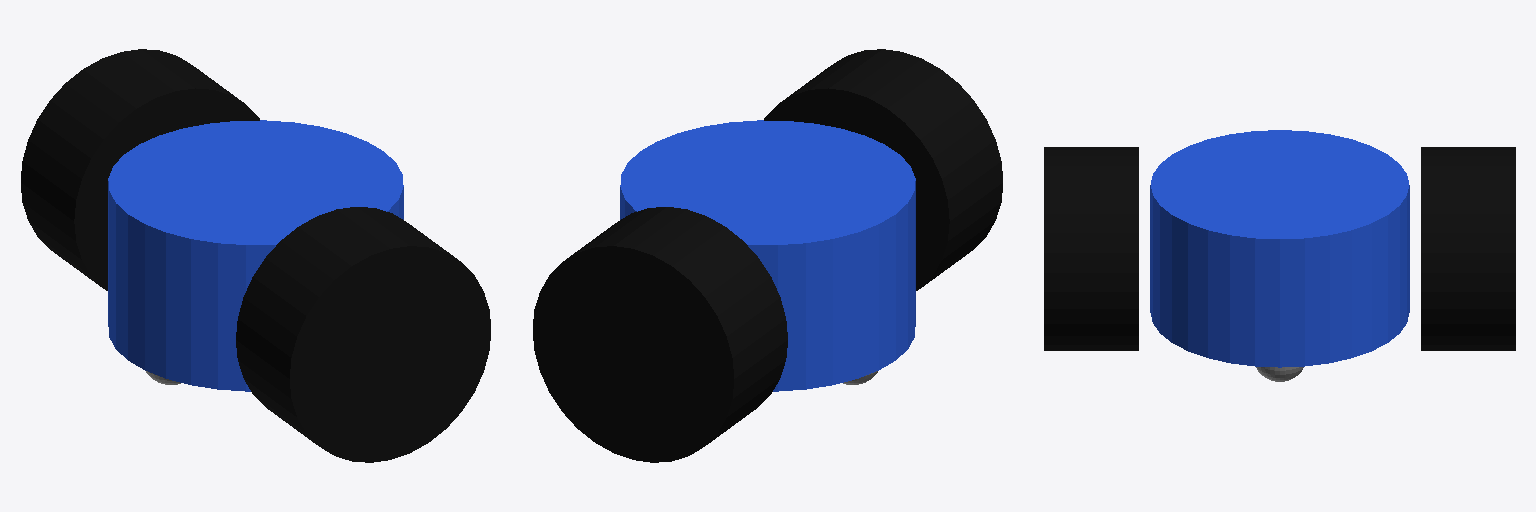
URDF robot description (burger_robot):
<?xml version="1.0"?>
<robot name="burger_robot">
  <material name="black">
    <color rgba="0.1 0.1 0.1 1.0"/>
  </material>
  <material name="gray">
    <color rgba="0.6 0.6 0.6 1.0"/>
  </material>
  <material name="blue">
    <color rgba="0.2 0.4 0.9 1.0"/>
  </material>

  <!-- Ground reference frame -->
  <link name="base_footprint"/>

  <!-- Main circular chassis (burger form factor) -->
  <link name="base_link">
    <inertial>
      <origin xyz="0 0 0" rpy="0 0 0"/>
      <mass value="2.0"/>
      <inertia ixx="0.01" ixy="0.0" ixz="0.0" iyy="0.01" iyz="0.0" izz="0.01"/>
    </inertial>
    <visual>
      <origin xyz="0 0 0" rpy="0 0 0"/>
      <geometry>
        <cylinder radius="0.0825" length="0.09"/>
      </geometry>
      <material name="blue"/>
    </visual>
    <collision>
      <origin xyz="0 0 0" rpy="0 0 0"/>
      <geometry>
        <cylinder radius="0.0825" length="0.09"/>
      </geometry>
    </collision>
  </link>

  <joint name="base_footprint_to_base_link" type="fixed">
    <parent link="base_footprint"/>
    <child link="base_link"/>
    <origin xyz="0 0 0.065" rpy="0 0 0"/>
  </joint>

  <!-- Left drive wheel: diameter 0.13 m -->
  <link name="left_wheel_link">
    <inertial>
      <origin xyz="0 0 0" rpy="0 0 0"/>
      <mass value="0.25"/>
      <inertia ixx="0.0006" ixy="0.0" ixz="0.0" iyy="0.0006" iyz="0.0" izz="0.0006"/>
    </inertial>
    <visual>
      <origin xyz="0 0 0" rpy="1.57079632679 0 0"/>
      <geometry>
        <cylinder radius="0.065" length="0.06"/>
      </geometry>
      <material name="black"/>
    </visual>
    <collision>
      <origin xyz="0 0 0" rpy="1.57079632679 0 0"/>
      <geometry>
        <cylinder radius="0.065" length="0.06"/>
      </geometry>
    </collision>
  </link>

  <joint name="left_wheel_joint" type="continuous">
    <parent link="base_link"/>
    <child link="left_wheel_link"/>
    <origin xyz="0 0.12 0" rpy="0 0 0"/>
    <axis xyz="0 1 0"/>
  </joint>

  <!-- Right drive wheel: diameter 0.13 m -->
  <link name="right_wheel_link">
    <inertial>
      <origin xyz="0 0 0" rpy="0 0 0"/>
      <mass value="0.25"/>
      <inertia ixx="0.0006" ixy="0.0" ixz="0.0" iyy="0.0006" iyz="0.0" izz="0.0006"/>
    </inertial>
    <visual>
      <origin xyz="0 0 0" rpy="1.57079632679 0 0"/>
      <geometry>
        <cylinder radius="0.065" length="0.06"/>
      </geometry>
      <material name="black"/>
    </visual>
    <collision>
      <origin xyz="0 0 0" rpy="1.57079632679 0 0"/>
      <geometry>
        <cylinder radius="0.065" length="0.06"/>
      </geometry>
    </collision>
  </link>

  <joint name="right_wheel_joint" type="continuous">
    <parent link="base_link"/>
    <child link="right_wheel_link"/>
    <origin xyz="0 -0.12 0" rpy="0 0 0"/>
    <axis xyz="0 1 0"/>
  </joint>

  <!-- Front caster wheel: diameter ~0.035 m -->
  <link name="front_caster_link">
    <inertial>
      <origin xyz="0 0 0" rpy="0 0 0"/>
      <mass value="0.05"/>
      <inertia ixx="0.00002" ixy="0.0" ixz="0.0" iyy="0.00002" iyz="0.0" izz="0.00002"/>
    </inertial>
    <visual>
      <origin xyz="0 0 0" rpy="0 0 0"/>
      <geometry>
        <sphere radius="0.0175"/>
      </geometry>
      <material name="gray"/>
    </visual>
    <collision>
      <origin xyz="0 0 0" rpy="0 0 0"/>
      <geometry>
        <sphere radius="0.0175"/>
      </geometry>
    </collision>
  </link>

  <joint name="front_caster_joint" type="fixed">
    <parent link="base_link"/>
    <child link="front_caster_link"/>
    <origin xyz="0.0575 0 -0.0475" rpy="0 0 0"/>
  </joint>

  <!-- Rear caster wheel: diameter ~0.035 m -->
  <link name="rear_caster_link">
    <inertial>
      <origin xyz="0 0 0" rpy="0 0 0"/>
      <mass value="0.05"/>
      <inertia ixx="0.00002" ixy="0.0" ixz="0.0" iyy="0.00002" iyz="0.0" izz="0.00002"/>
    </inertial>
    <visual>
      <origin xyz="0 0 0" rpy="0 0 0"/>
      <geometry>
        <sphere radius="0.0175"/>
      </geometry>
      <material name="gray"/>
    </visual>
    <collision>
      <origin xyz="0 0 0" rpy="0 0 0"/>
      <geometry>
        <sphere radius="0.0175"/>
      </geometry>
    </collision>
  </link>

  <joint name="rear_caster_joint" type="fixed">
    <parent link="base_link"/>
    <child link="rear_caster_link"/>
    <origin xyz="-0.0545 0 -0.0475" rpy="0 0 0"/>
  </joint>
</robot>

--- Facts derived from the render (not from the file) ---
Views: 3 orthographic renders of the robot side by side, from view 1: azimuth 30°, elevation 25°; view 2: azimuth 150°, elevation 25°; view 3: azimuth 270°, elevation 25°.
Model burger_robot with 6 links and 5 joints (2 continuous, 3 fixed), rooted at base_footprint, posed every joint at zero.
Links seen in each view (by area): view 1: right_wheel_link, base_link, left_wheel_link; view 2: left_wheel_link, base_link, right_wheel_link; view 3: base_link, left_wheel_link, right_wheel_link.
Boxes of the visible links, x1,y1,x2,y2 form: right_wheel_link: (236, 207, 490, 462); base_link: (108, 120, 403, 391); left_wheel_link: (21, 49, 259, 290); left_wheel_link: (533, 207, 787, 462); base_link: (620, 120, 915, 391); right_wheel_link: (764, 49, 1002, 290); base_link: (1150, 130, 1409, 367); left_wheel_link: (1421, 147, 1515, 350); right_wheel_link: (1044, 147, 1138, 350).
Bounding box of the posed robot: 0.165 × 0.3 × 0.13 m (x, y, z).
Geometry: primitives only (box / cylinder / sphere), no mesh files.
